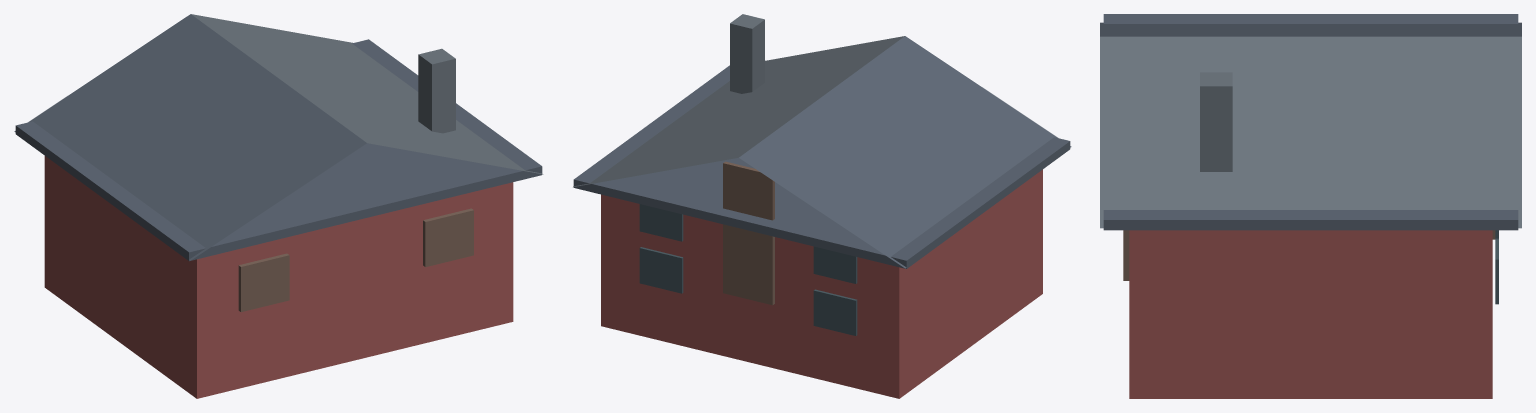
The model's file is house_red_dark.glb.
The picture shows the model from 3 angles, left to right: view 1: azimuth 30°, elevation 25°; view 2: azimuth 150°, elevation 25°; view 3: azimuth 270°, elevation 25°; orthographic projection. The views are drawn at different scales.
Visible parts, largest first — view 1: house_red_dark; view 2: house_red_dark; view 3: house_red_dark.
Part boxes in pixels (x1,y1,x2,y2): house_red_dark: [14, 14, 543, 398]; house_red_dark: [573, 14, 1071, 398]; house_red_dark: [1100, 14, 1521, 398].
Size of the model in its own units: 6.7 by 4.5 by 5.8.
